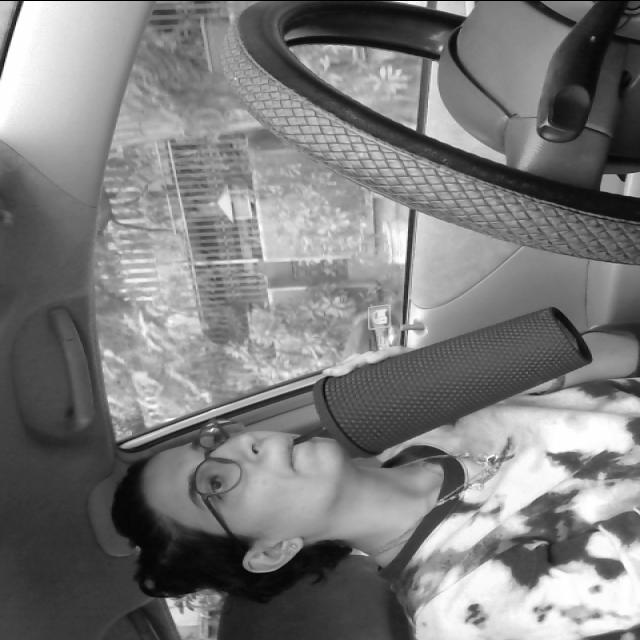drinking: (278, 289, 586, 465)
